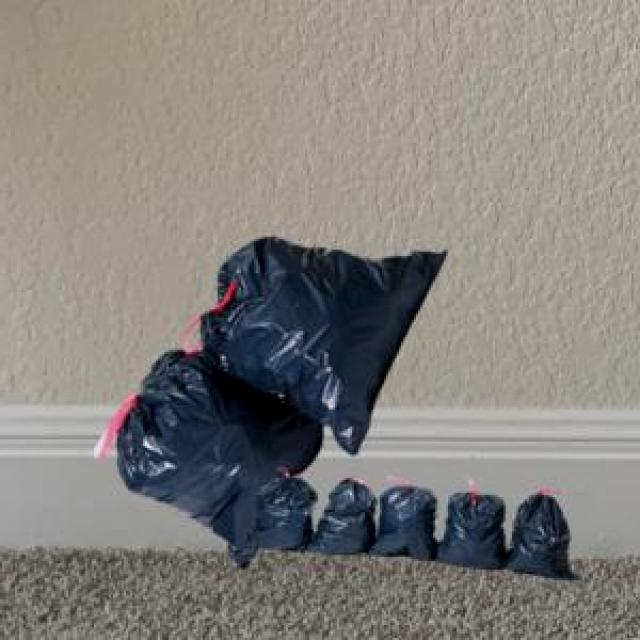Trashbag: (190, 237, 462, 456), (498, 487, 589, 582), (432, 492, 511, 574), (305, 480, 382, 560), (252, 470, 318, 556), (372, 486, 441, 568)
